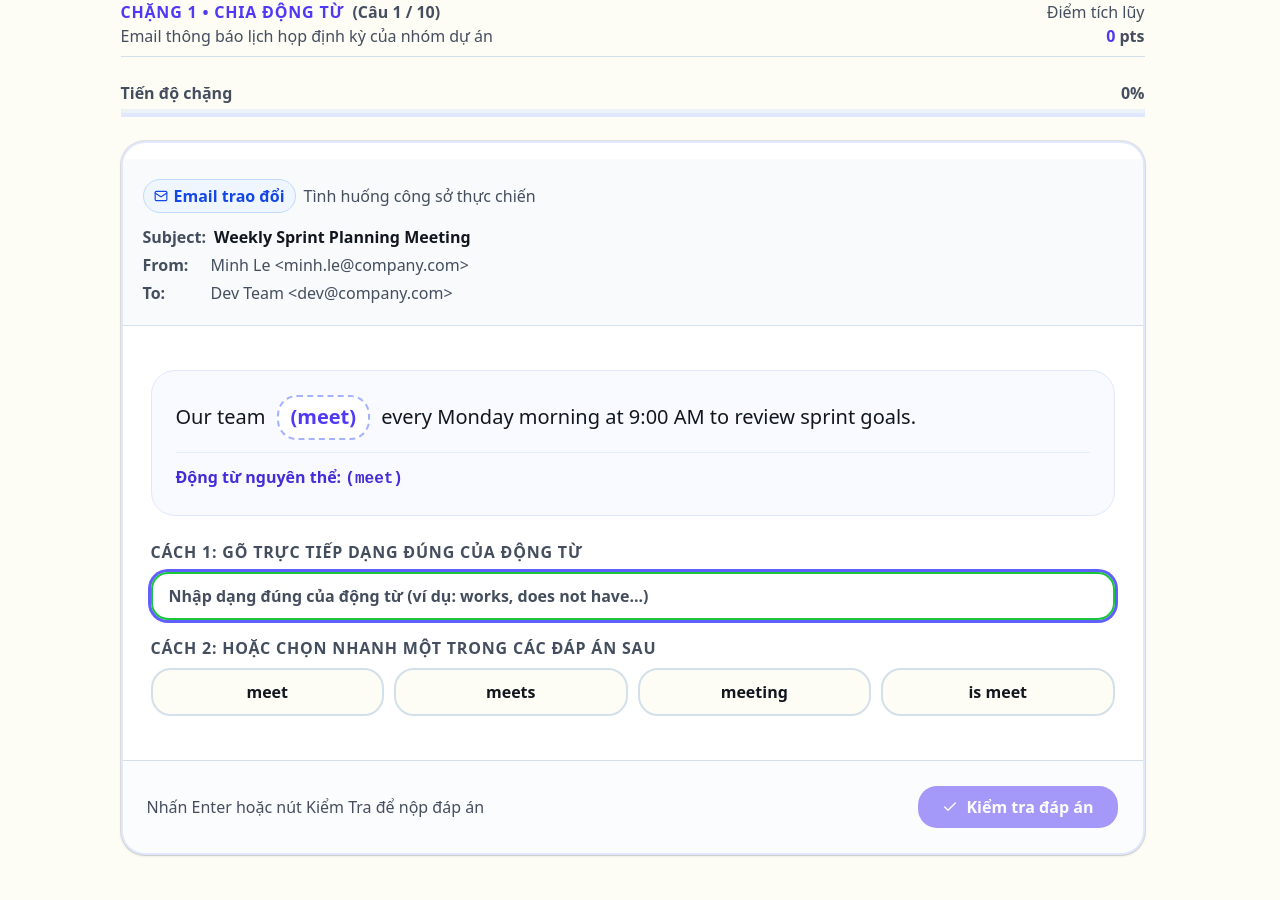
Test: ConjugationStage (Stage 1) › advances to the next question when clicking 'Câu tiếp theo'
# Answer Q1
Click the button "meets" at (511, 692), box [394, 668, 628, 716]
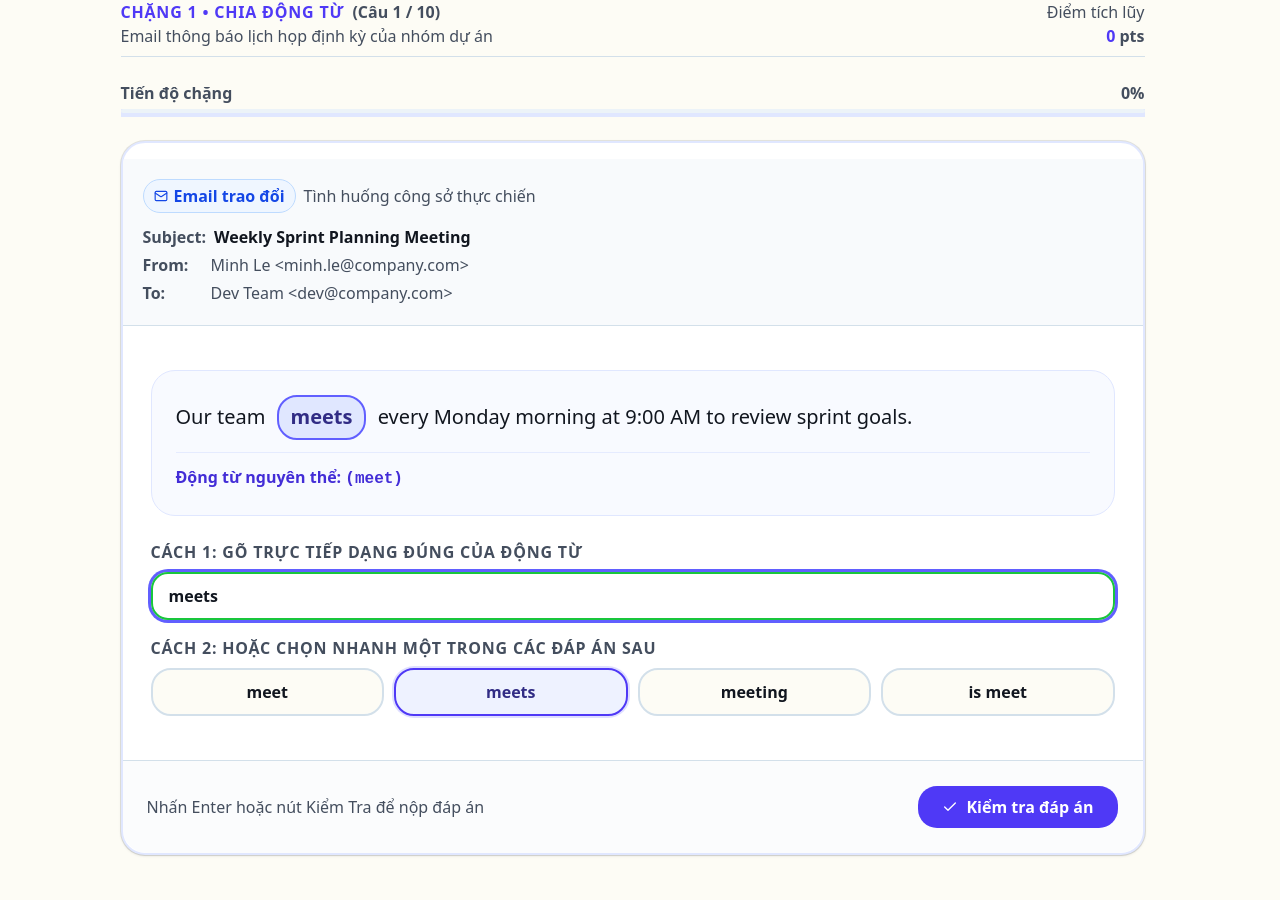
Click the button "Kiểm tra đáp án" at (1018, 806), box [917, 784, 1118, 828]
(page scrolled)
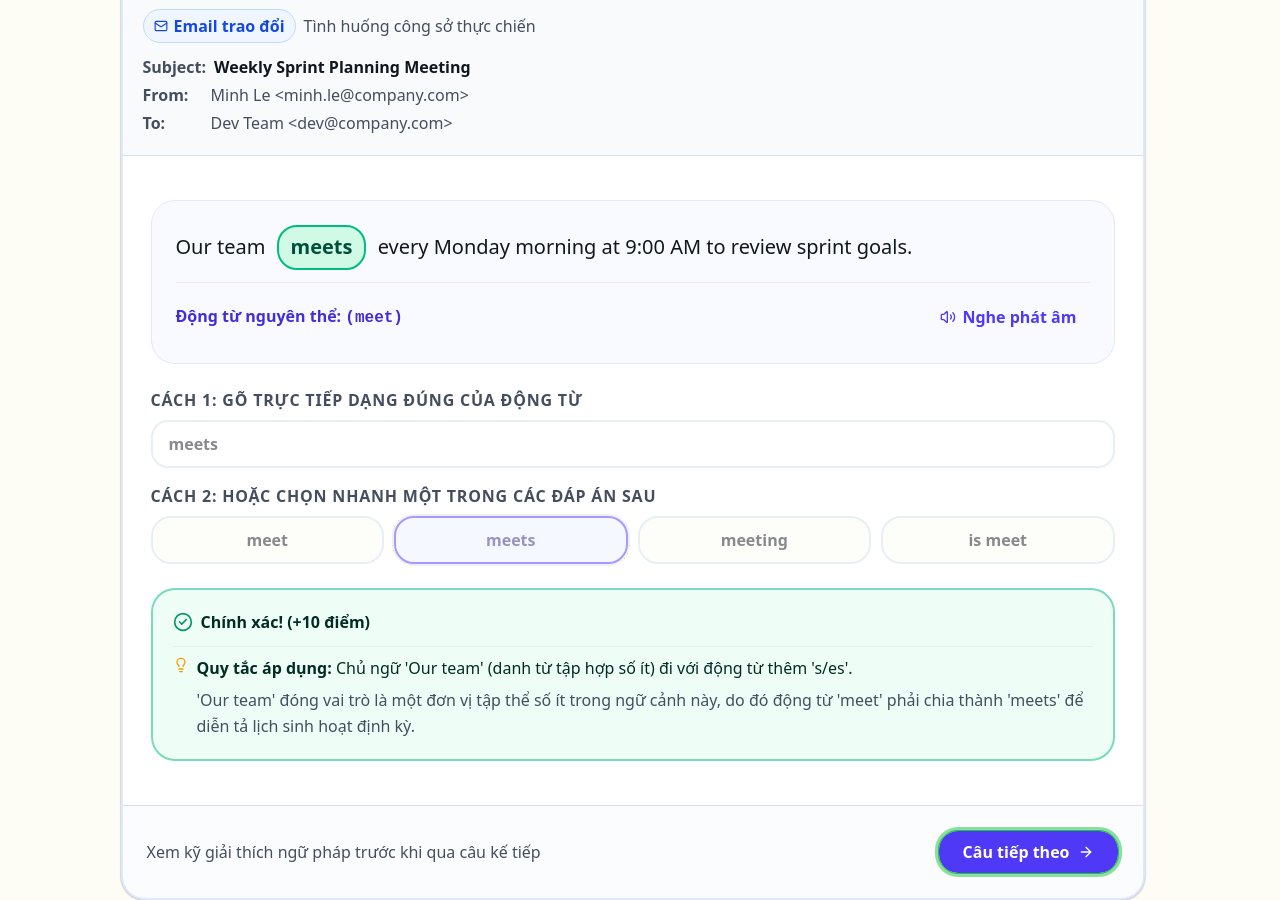
# Click Next
Click the button "Câu tiếp theo" at (1028, 852), box [938, 830, 1118, 874]
(page scrolled)
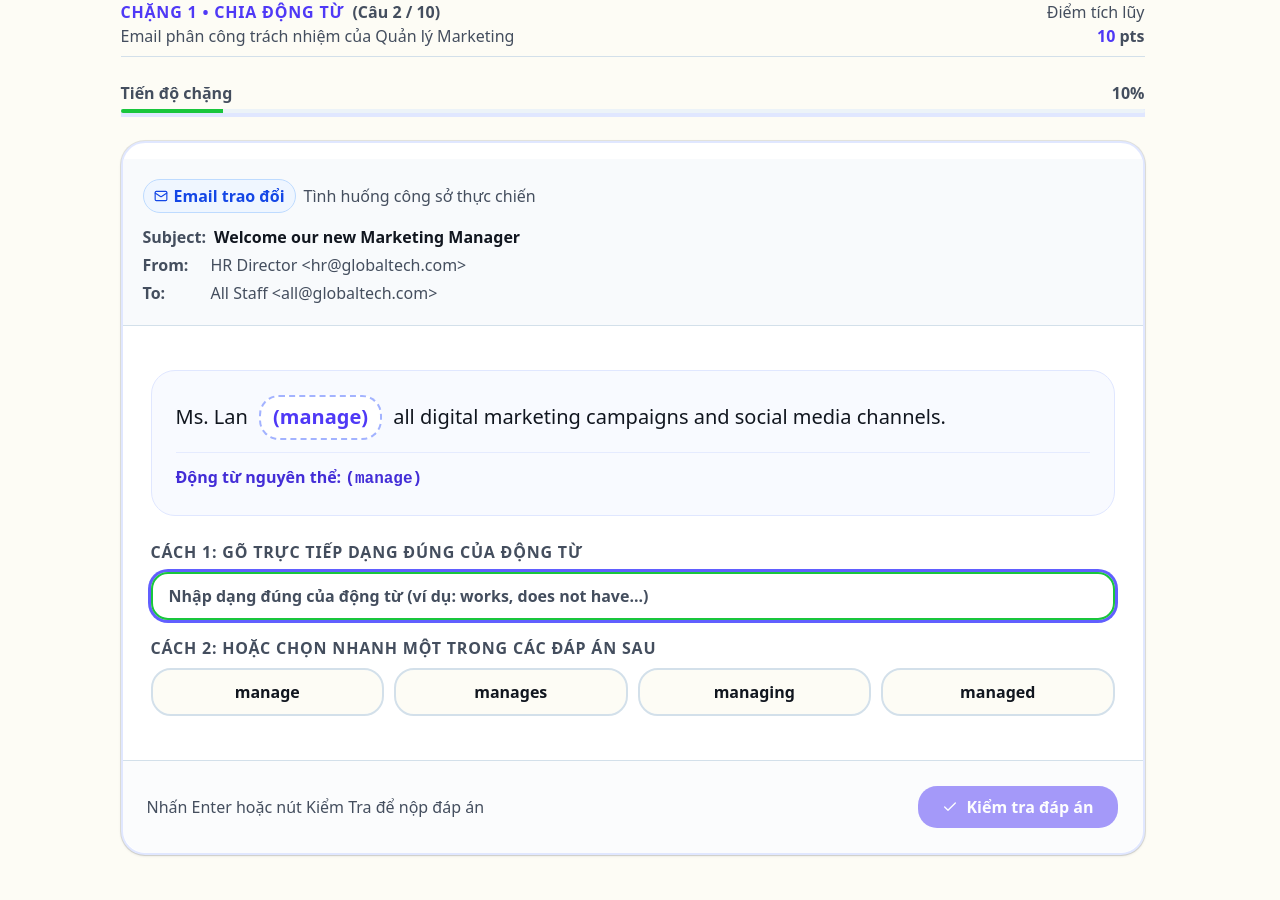
Expected: the text "(Câu 2 / 10)" is shown, [352, 0, 440, 24]
Expected: the text "Email phân công trách nhiệm của Quản lý Marketing" is shown, [120, 24, 514, 48]
Expected: the button "manages" is shown, [394, 668, 628, 716]
